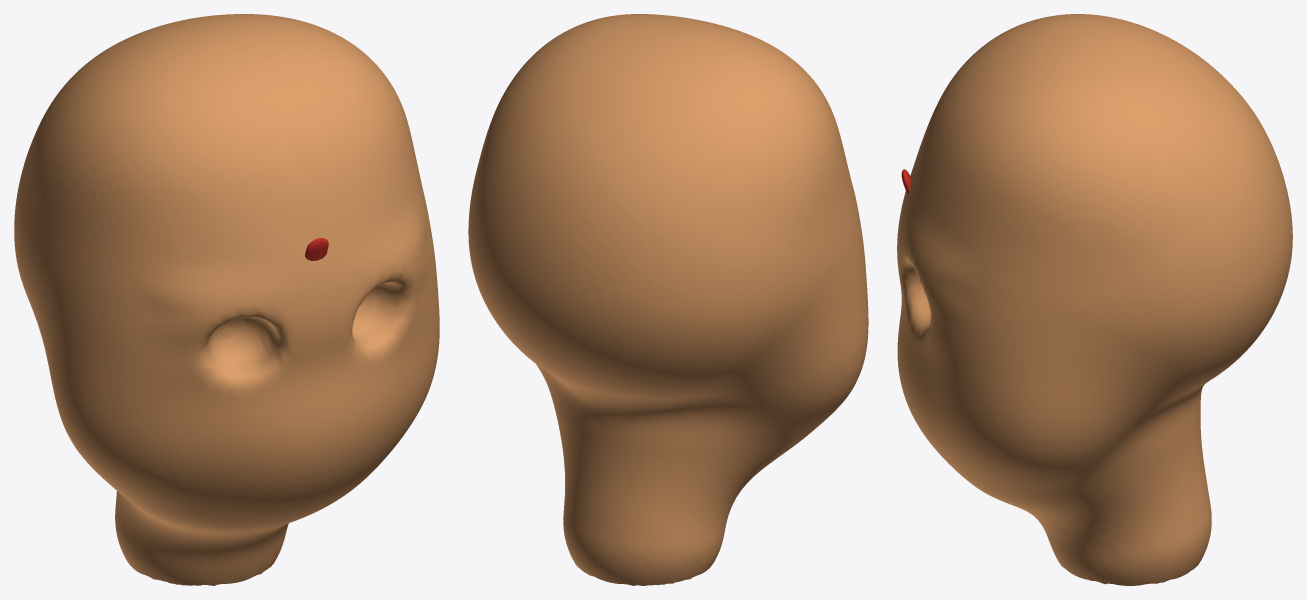
Rendered from head-classic-sculpt.glb.
3 views of the same model, side by side, from view 1: azimuth 30°, elevation 25°; view 2: azimuth 150°, elevation 25°; view 3: azimuth 270°, elevation 25° (orthographic). The views are drawn at different scales.
Parts seen in each view (by area): view 1: head_classicSculpt; view 2: head_classicSculpt; view 3: head_classicSculpt.
Boxes of the visible parts, x1,y1,x2,y2 form: head_classicSculpt: (14, 14, 439, 585); head_classicSculpt: (468, 14, 868, 585); head_classicSculpt: (897, 14, 1292, 585).
Size of the model in its own units: 0.2697 by 0.3854 by 0.2688.
